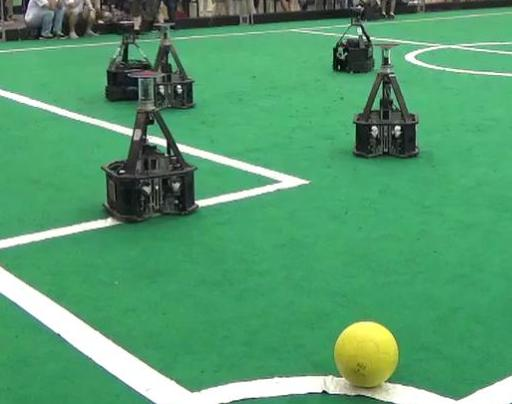robot: (97, 67, 205, 225), (350, 31, 427, 165), (322, 1, 380, 75)
